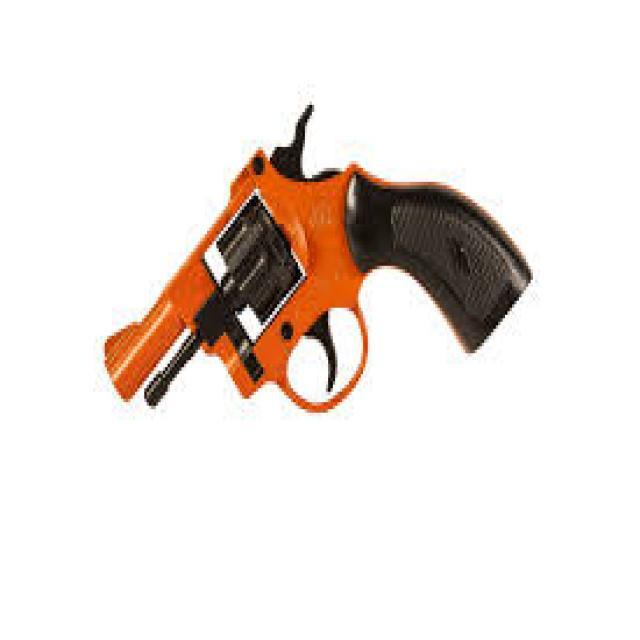revolver: (46, 16, 580, 522)
